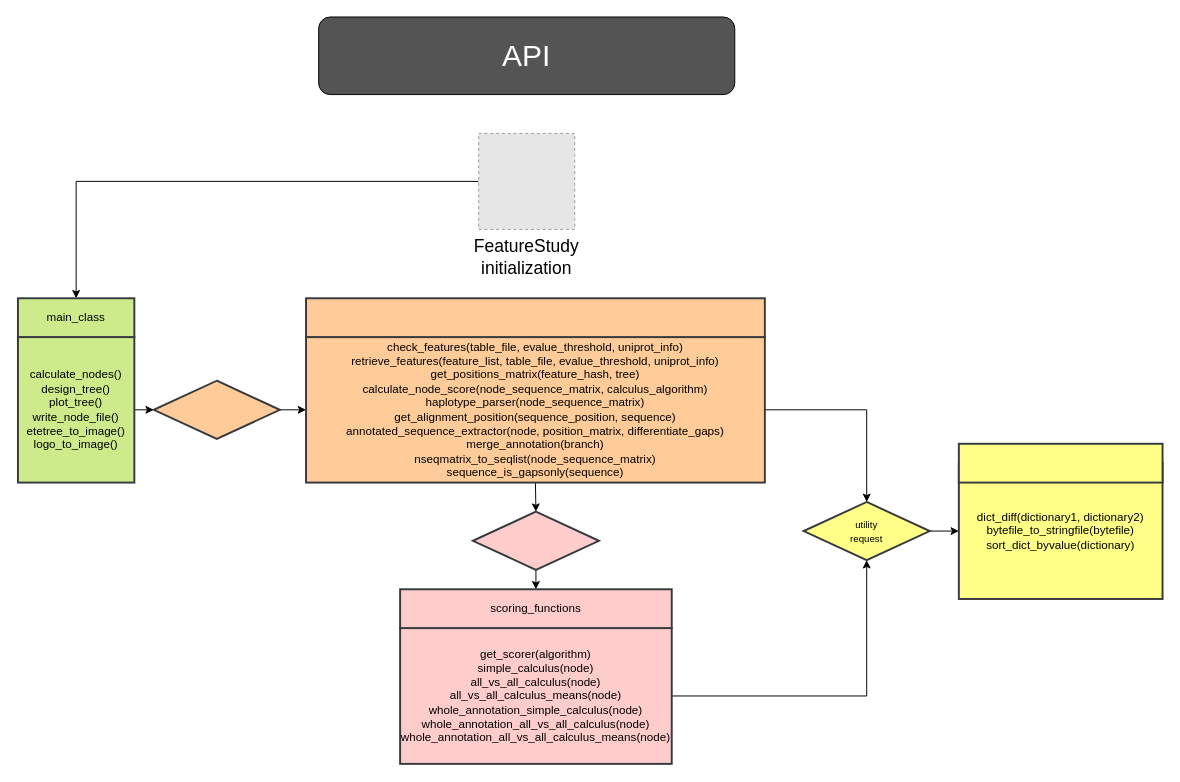
Some shapes in this 1180 by 782 pixel diagram are drawn without their labels. Grey dashed boxes stand in for pictures. Each missing label, with the box of its shape:
feature processing request: (152, 379, 280, 439)
feature_processing: (305, 297, 765, 338)
node calculation request: (471, 510, 599, 570)
utils: (957, 442, 1163, 483)
